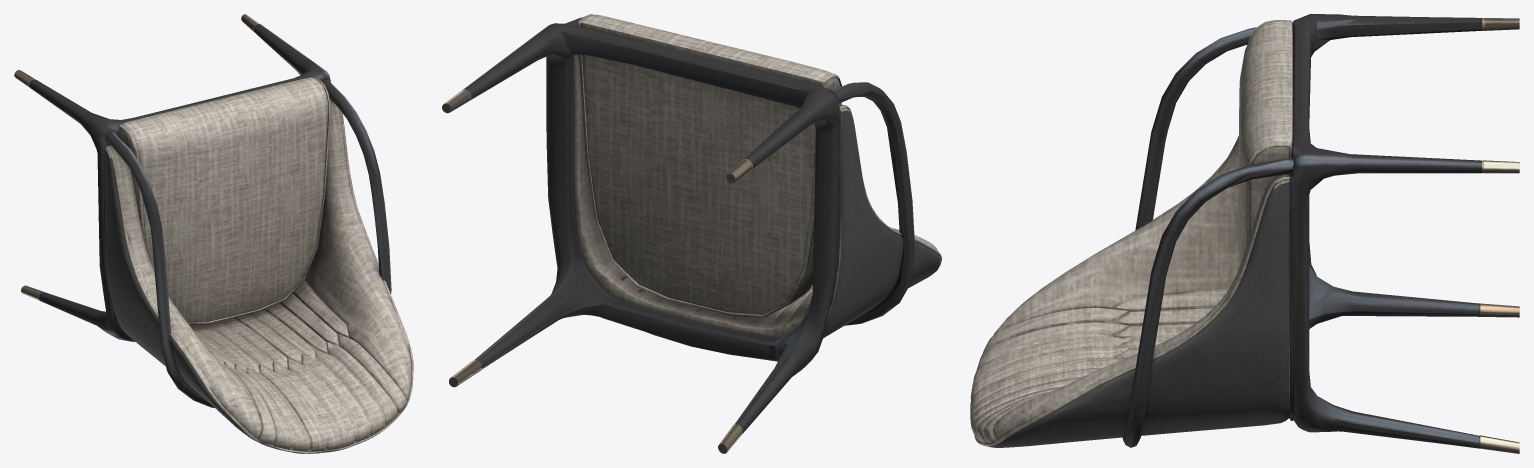
3 views of the same model, side by side, from view 1: azimuth 30°, elevation 25°; view 2: azimuth 150°, elevation 25°; view 3: azimuth 270°, elevation 25° (orthographic). The views are drawn at different scales.
Size of the model in its own units: 0.6705 by 0.7178 by 1.04.
